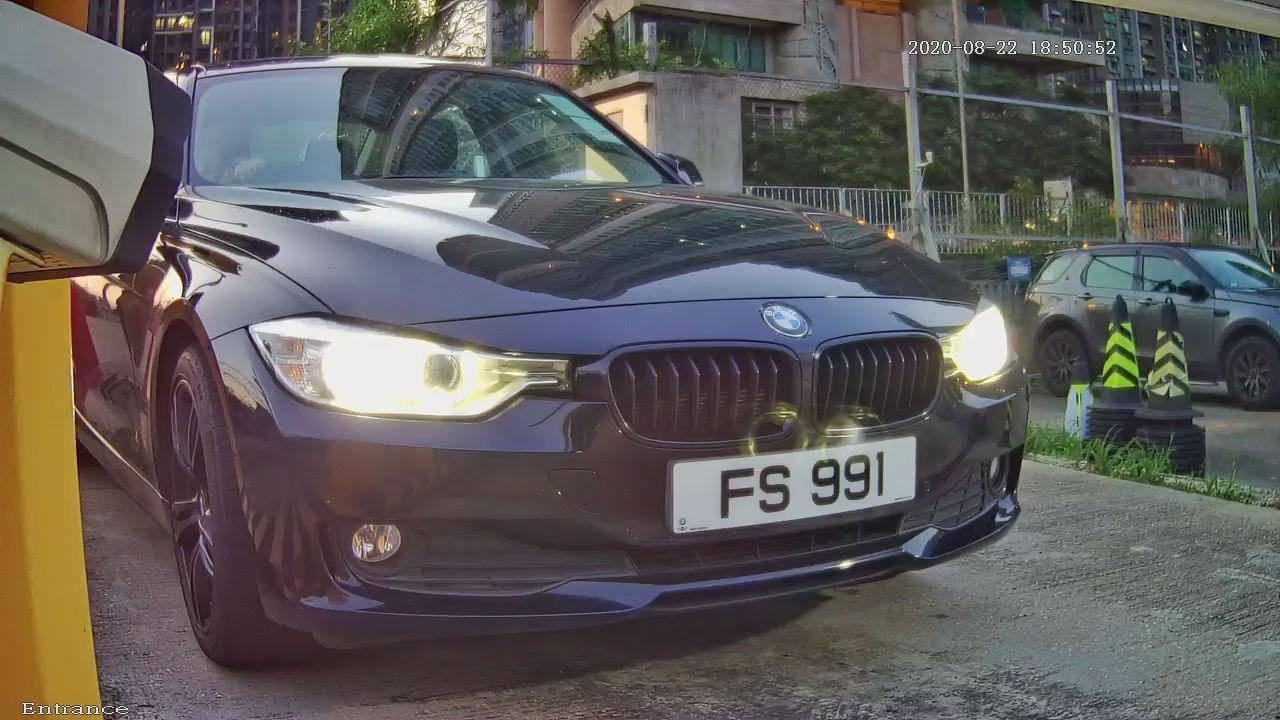Car: (23, 10, 1143, 679)
License Plate: (585, 373, 1009, 597)
